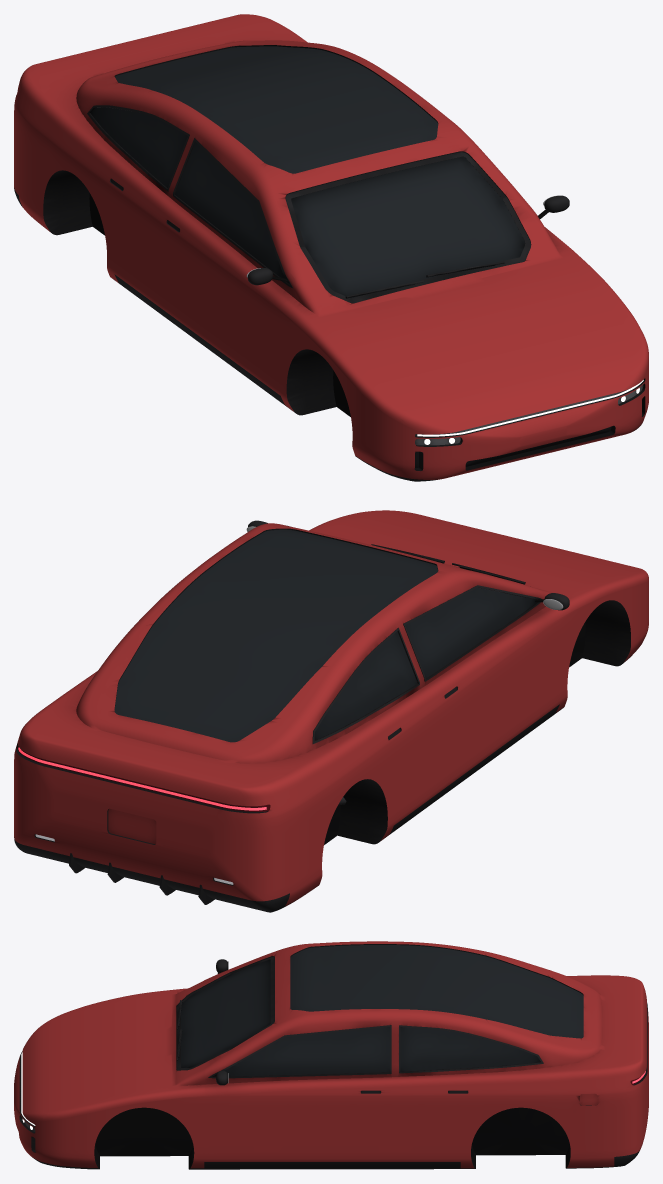
The model's file is surge.glb.
3 renders of one model, top to bottom at view 1: azimuth 30°, elevation 25°; view 2: azimuth 150°, elevation 25°; view 3: azimuth 270°, elevation 25°, orthographic. The views are drawn at different scales.
Parts seen in each view (by area): view 1: paint, window, glass, trim, head, grille; view 2: paint, glass, trim, window, tail, tailglow; view 3: paint, glass, window, trim.
Part boxes in pixels (x1,y1,x2,y2): paint: [14, 14, 648, 479]; window: [90, 107, 525, 298]; glass: [115, 46, 438, 173]; trim: [14, 45, 645, 481]; head: [415, 385, 643, 445]; grille: [415, 426, 611, 467]; paint: [14, 510, 648, 906]; glass: [114, 529, 437, 742]; trim: [14, 520, 635, 912]; window: [314, 567, 536, 740]; tail: [18, 746, 270, 811]; tailglow: [18, 747, 266, 810]; paint: [14, 941, 648, 1168]; glass: [290, 945, 583, 1038]; window: [181, 959, 540, 1076]; trim: [19, 944, 647, 1169].
Size of what is drawn, in the model's own units: 2.22 by 1.25 by 4.96.
